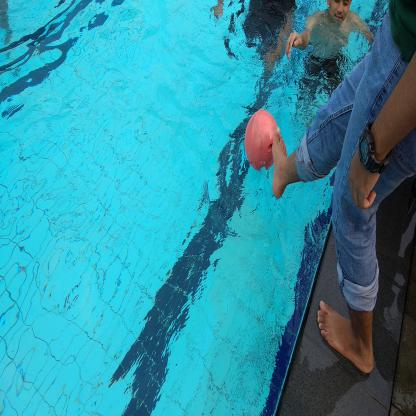red_buoy: (242, 107, 281, 178)
